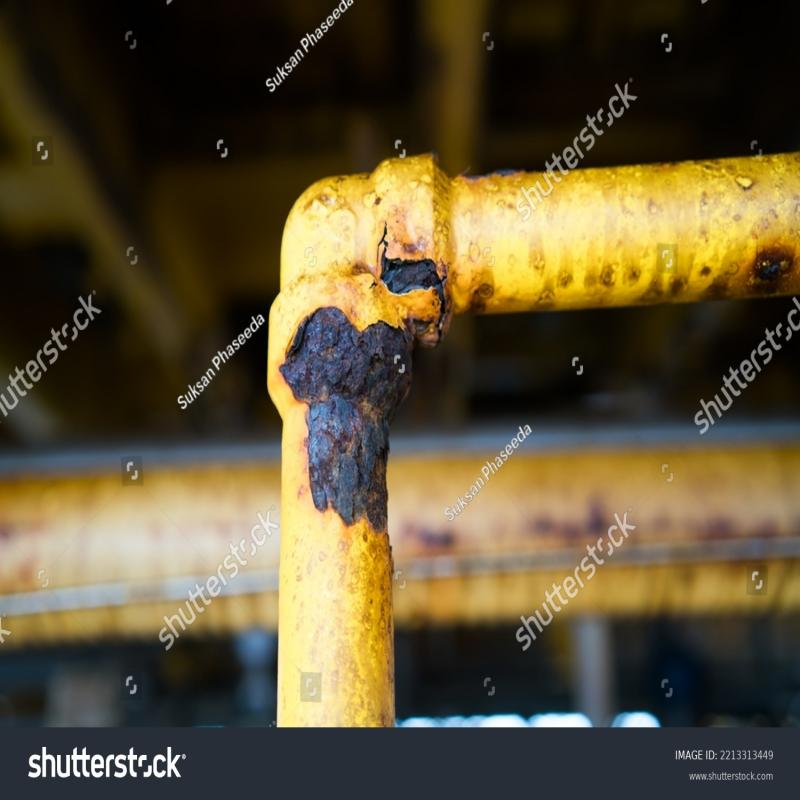corrosion: (293, 304, 399, 512), (729, 235, 800, 302), (363, 256, 453, 298)
